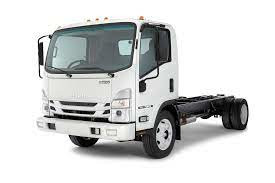truck: (35, 15, 249, 160)
